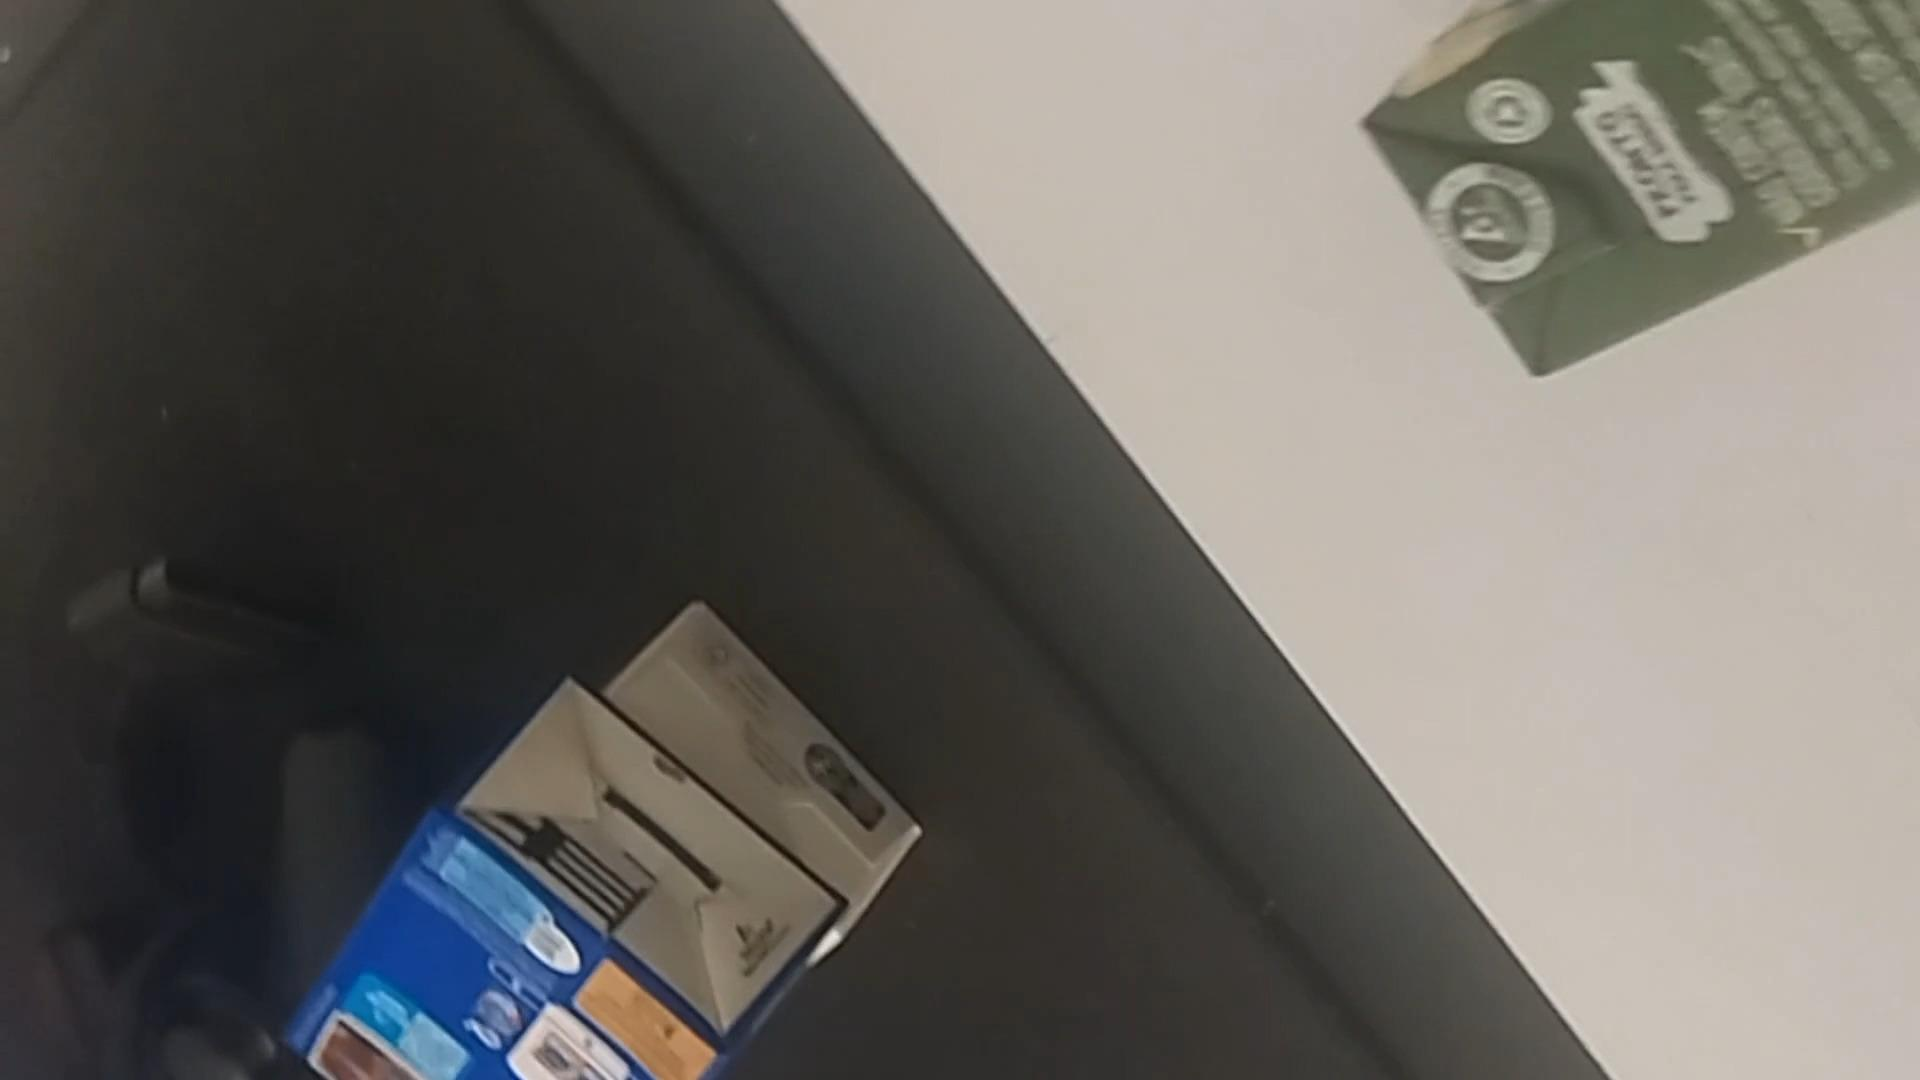coco: (1360, 0, 1920, 388)
